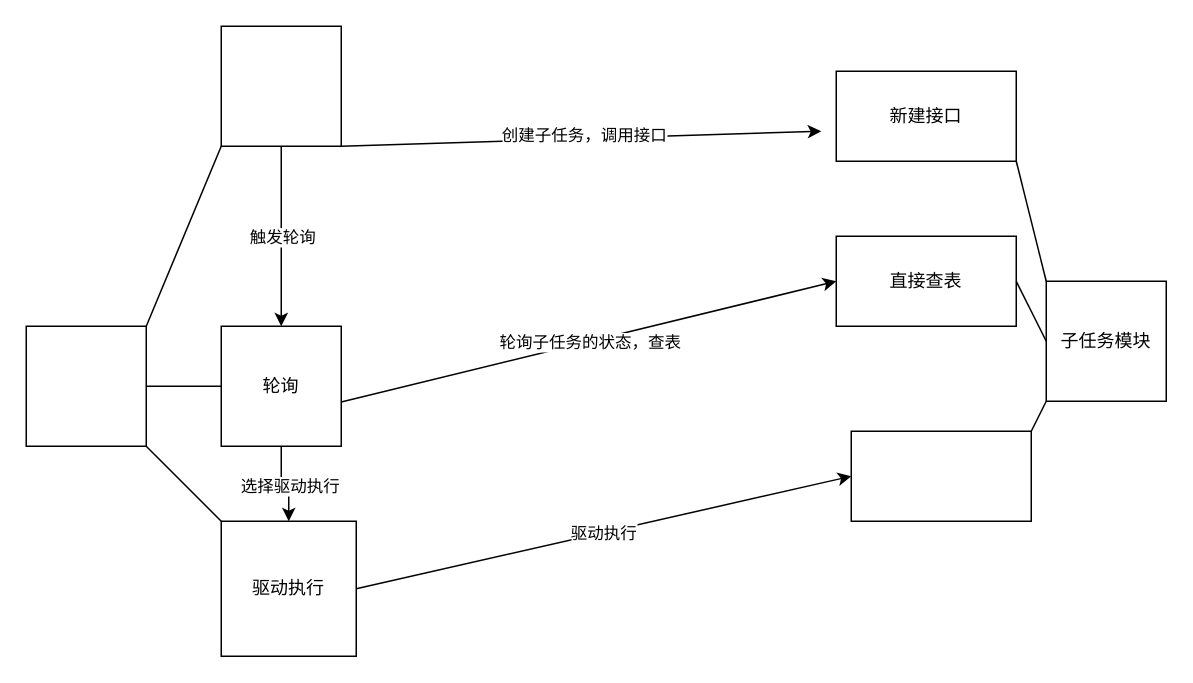
This 1193x683 diagram has some shape labels left out. Here are the shapes that lost their labels. From the top down, the box of each, then its label:
(220, 25, 341, 146): 创建子任务
(25, 325, 146, 446): 母任务模块
(850, 430, 1031, 521): 执行子任务接口
